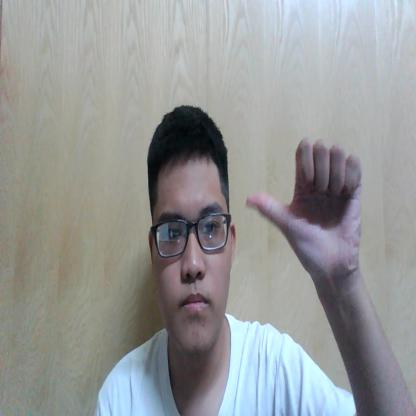right: (246, 135, 363, 272)
